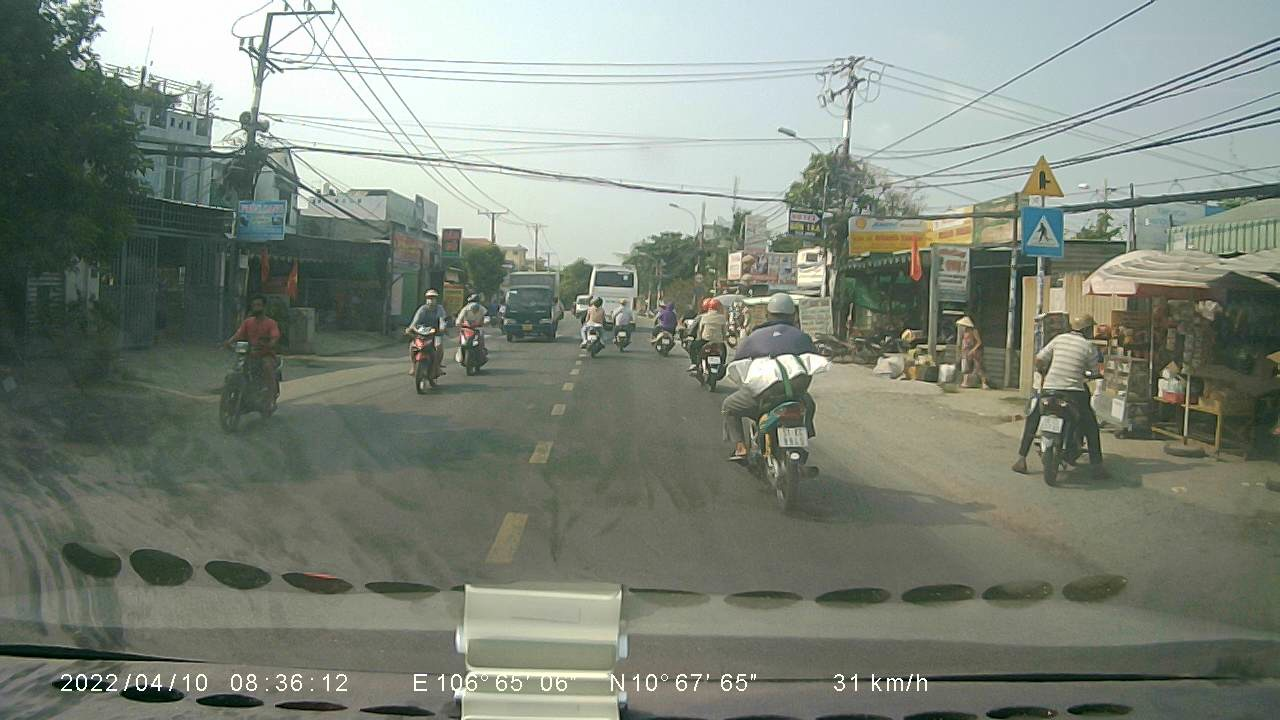Giao nhau voi duong khong uu tien: (1017, 149, 1067, 199)
Nguoi di bo: (1015, 200, 1070, 258)
